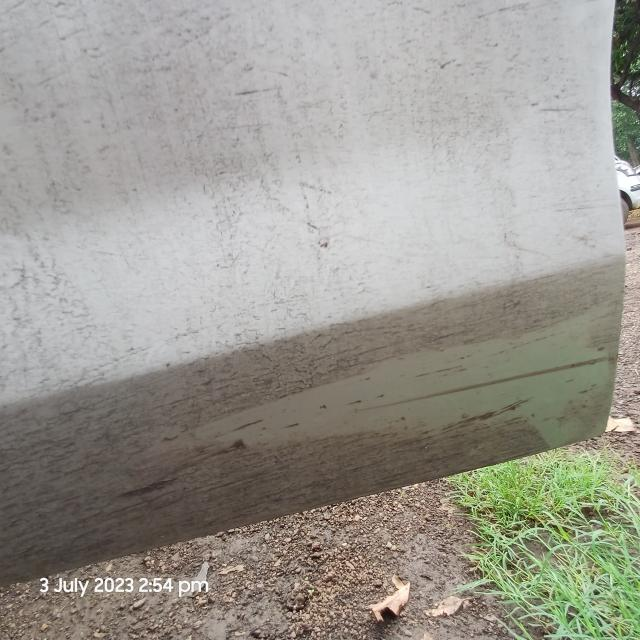damage: (341, 350, 618, 424)
